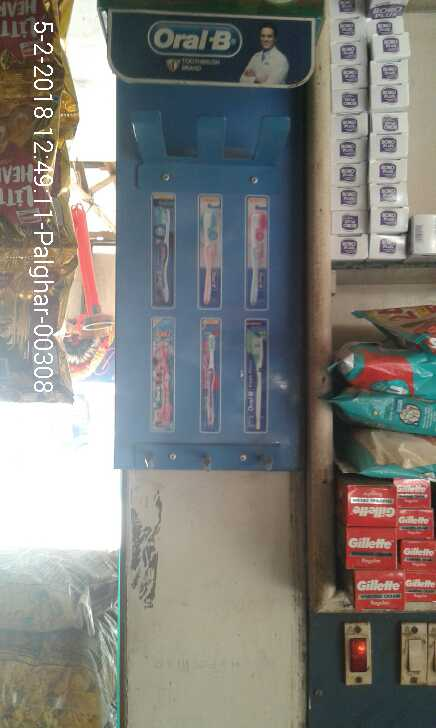gillette: (337, 474, 398, 529), (350, 569, 409, 614), (344, 529, 398, 570), (395, 480, 435, 514), (398, 571, 436, 605), (400, 538, 436, 570), (398, 511, 436, 533)
